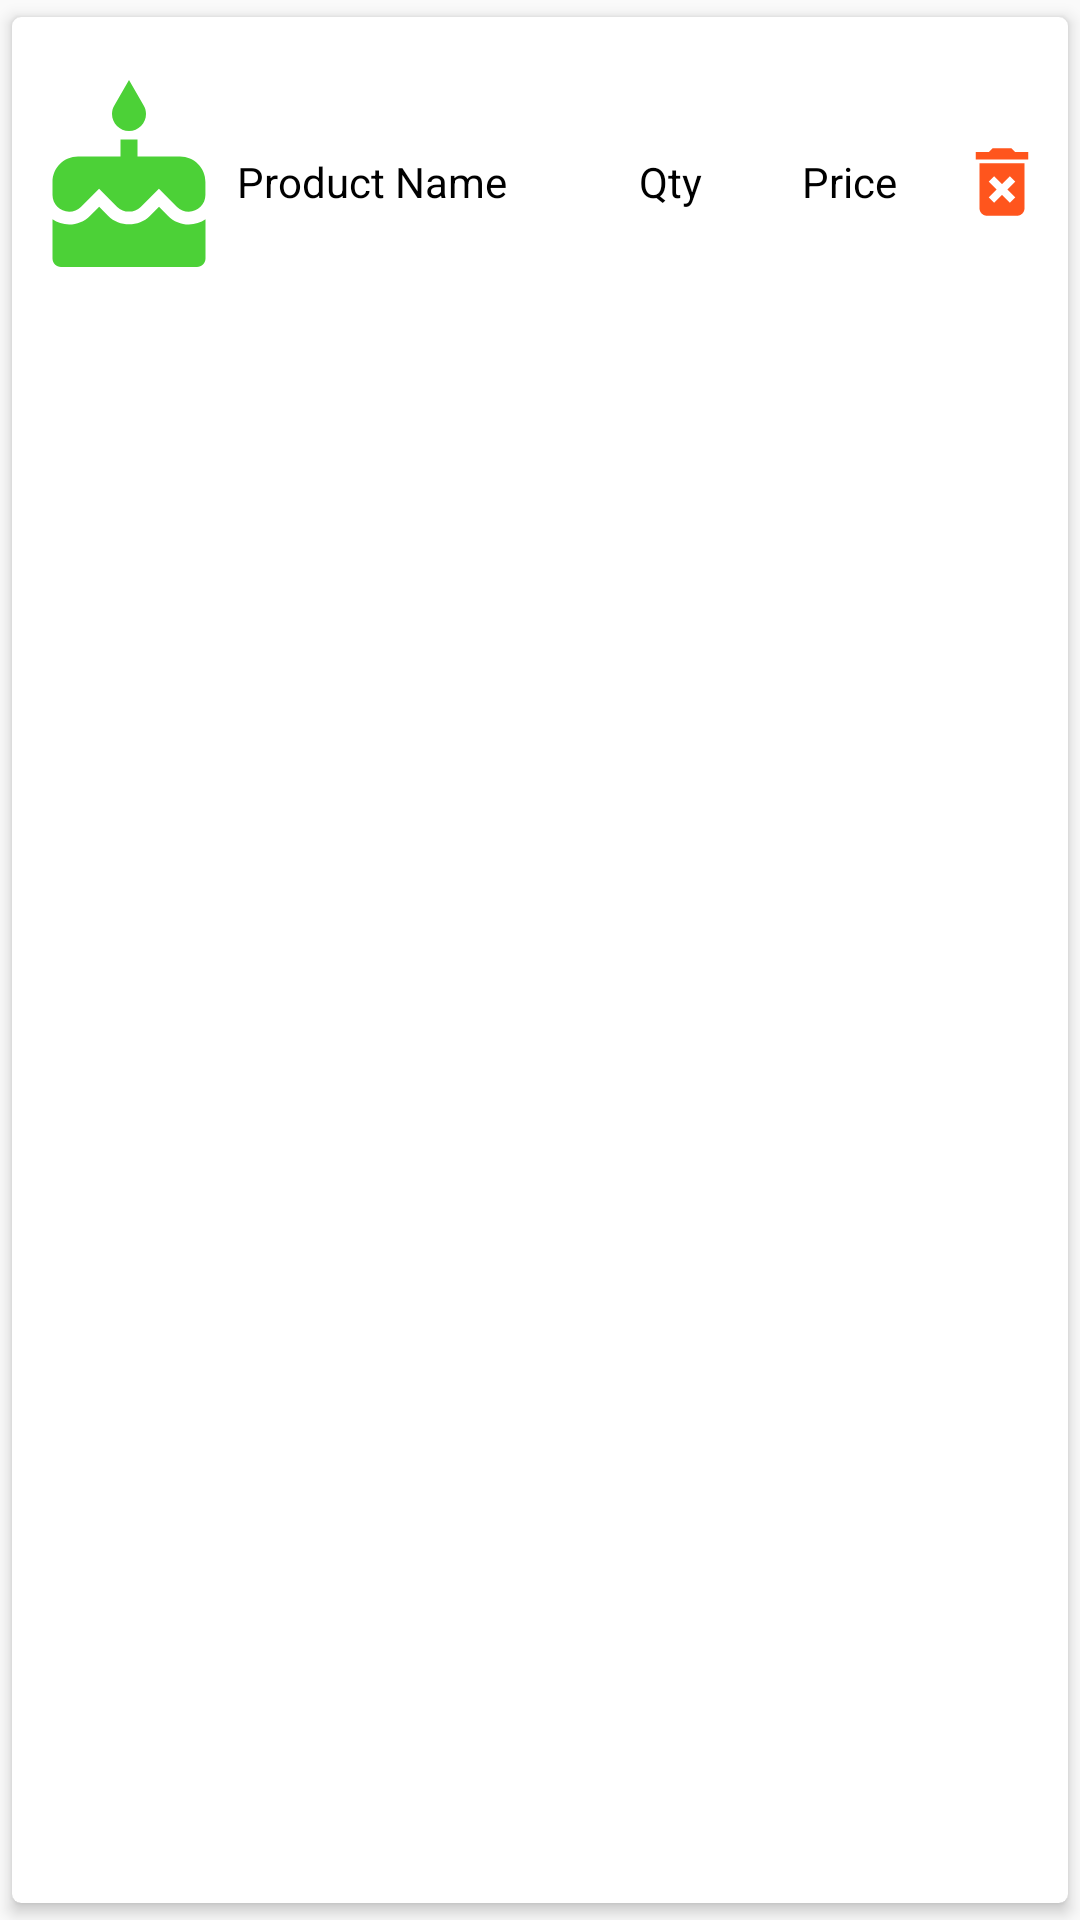

Icons on this 1080x1920 Android screen, each with its box as (x1, y1, x2, y2):
delete: (975, 148, 1029, 216)
food: (52, 80, 206, 267)
